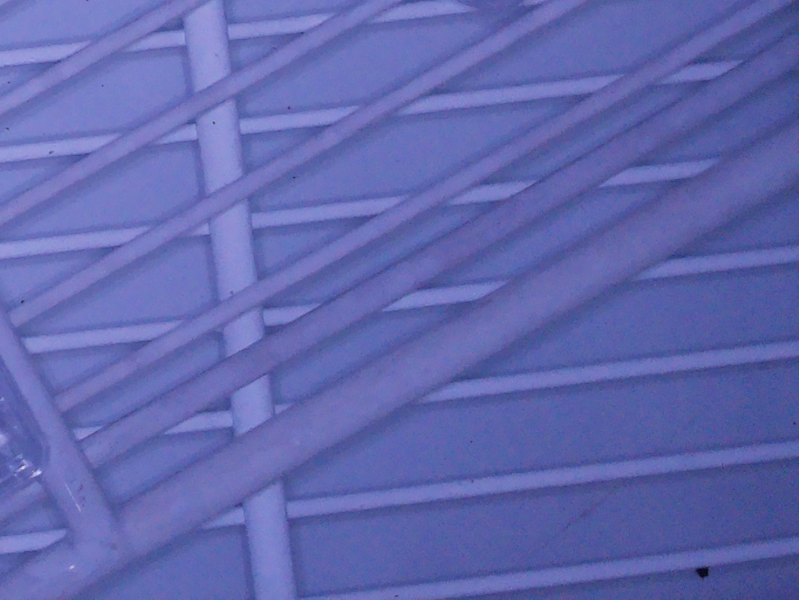plate: (1, 359, 45, 505)
